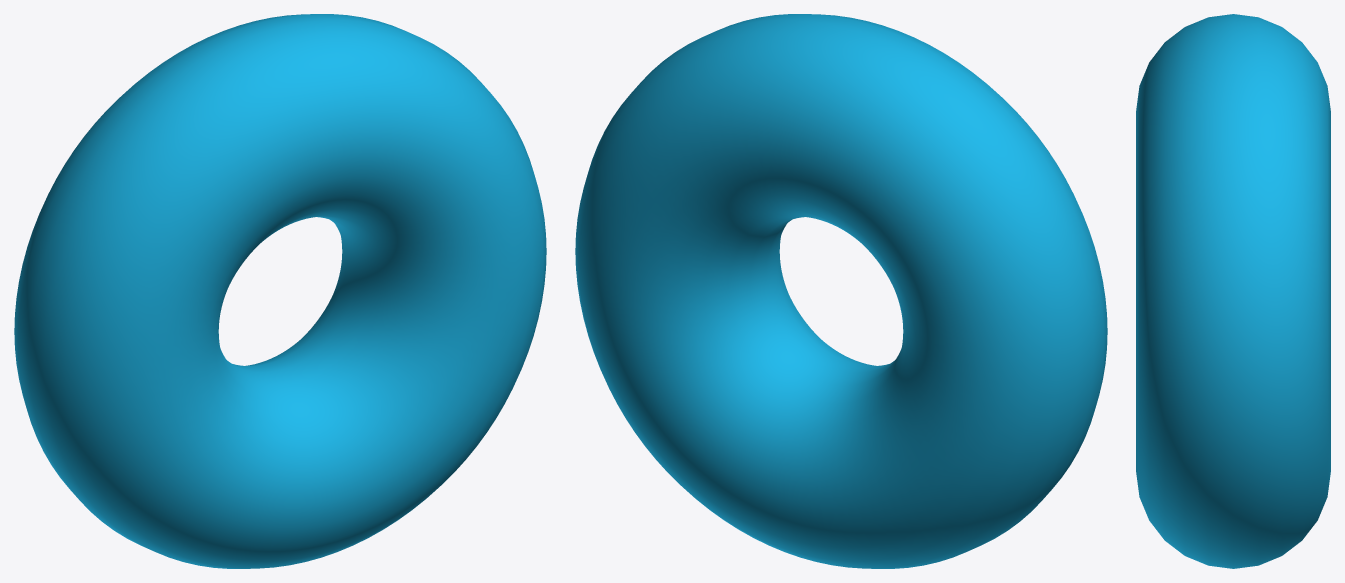
The picture shows the model from 3 angles, left to right: view 1: azimuth 30°, elevation 25°; view 2: azimuth 150°, elevation 25°; view 3: azimuth 270°, elevation 25°; orthographic projection. The views are drawn at different scales.
Parts seen in each view (by area): view 1: Torus; view 2: Torus; view 3: Torus.
Boxes of the visible parts, left/top/right/bottom form: Torus: left=14, top=14, right=546, bottom=568; Torus: left=575, top=14, right=1107, bottom=568; Torus: left=1136, top=14, right=1330, bottom=568.
Size of the model in its own units: 3.07 by 3.07 by 1.08.
